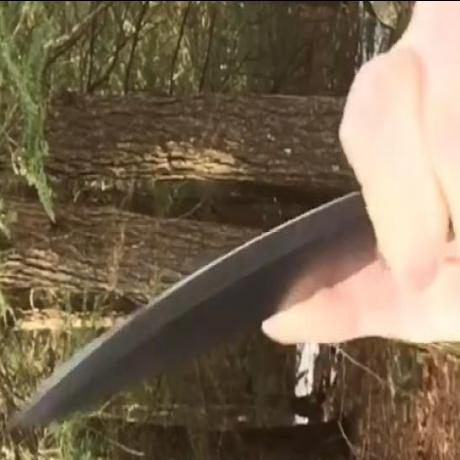1: (253, 0, 460, 345)
weapon: (7, 183, 389, 430)
